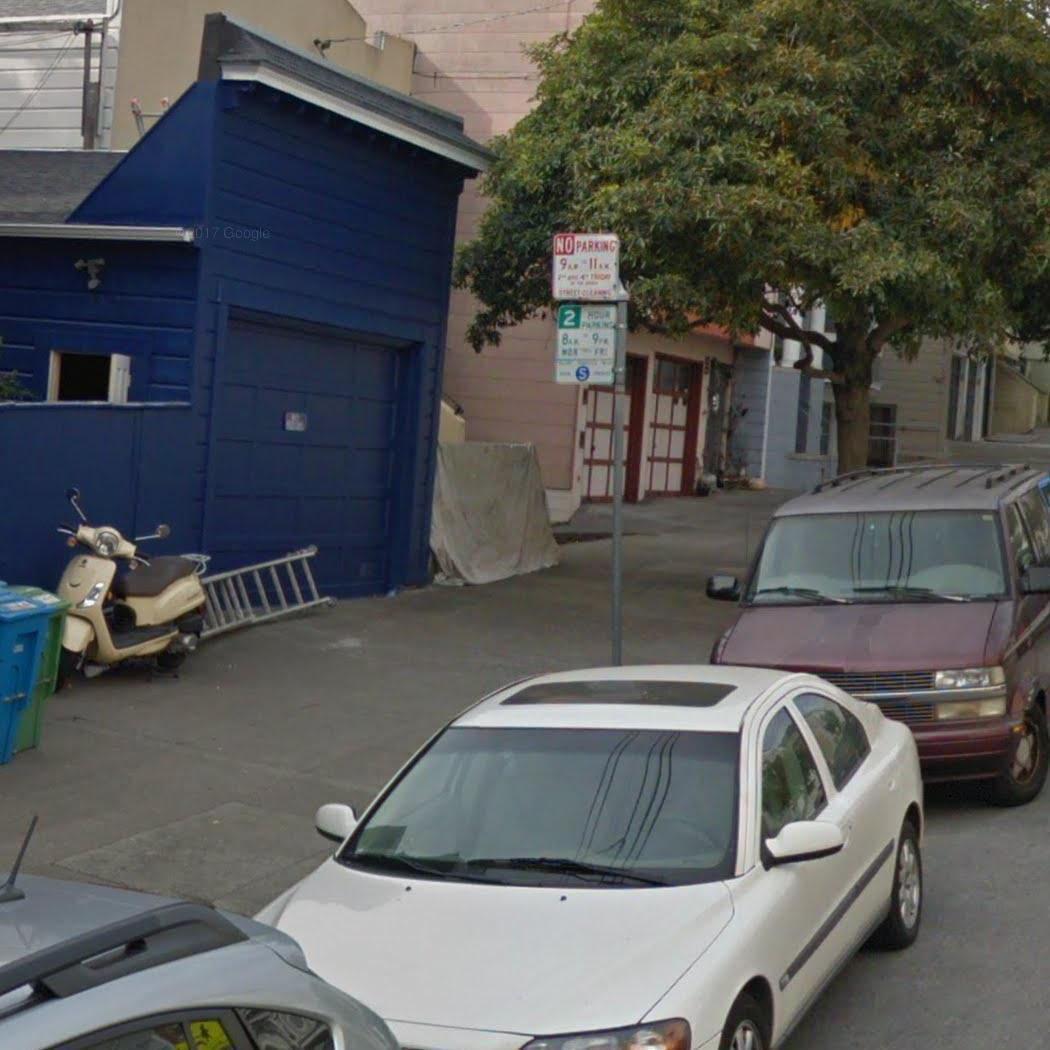2 Hour Parking: (551, 299, 619, 388)
No Parking: (549, 230, 624, 302)
